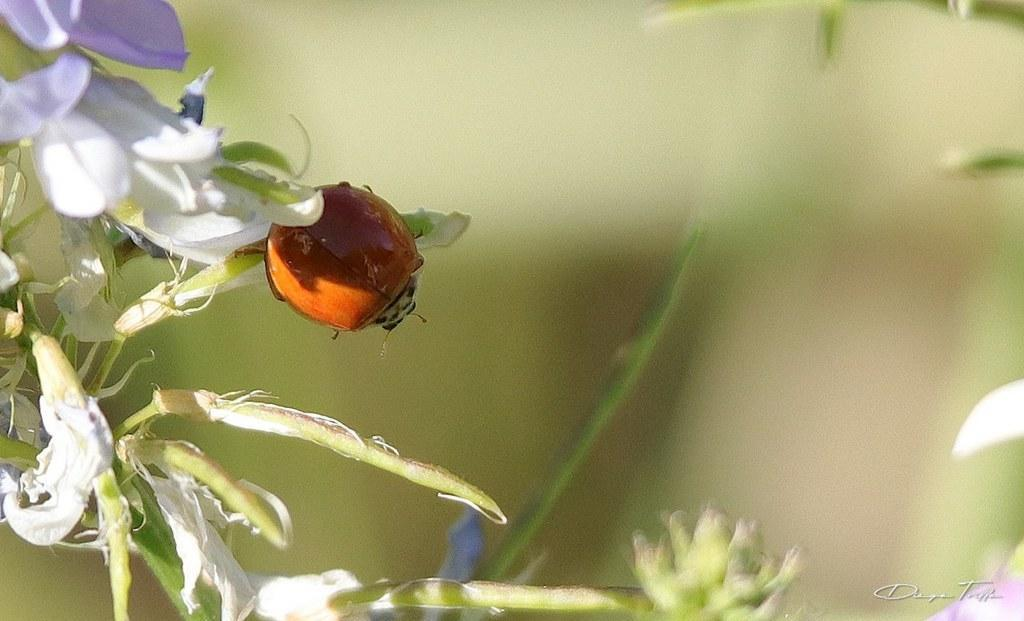ladybug: (231, 179, 433, 361)
